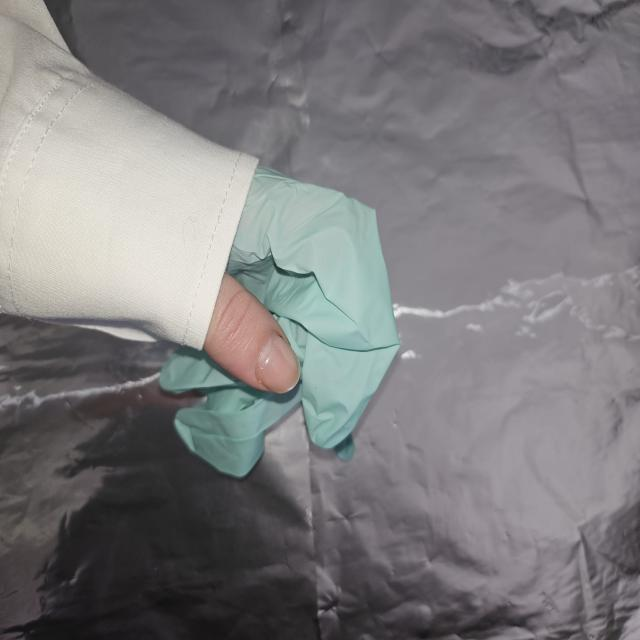glove_partial: (158, 155, 404, 478)
